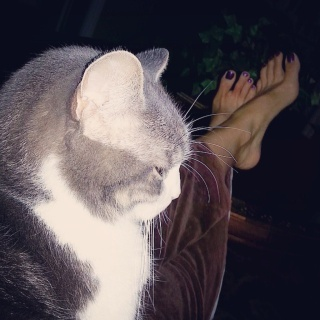Cat: (0, 43, 251, 319)
